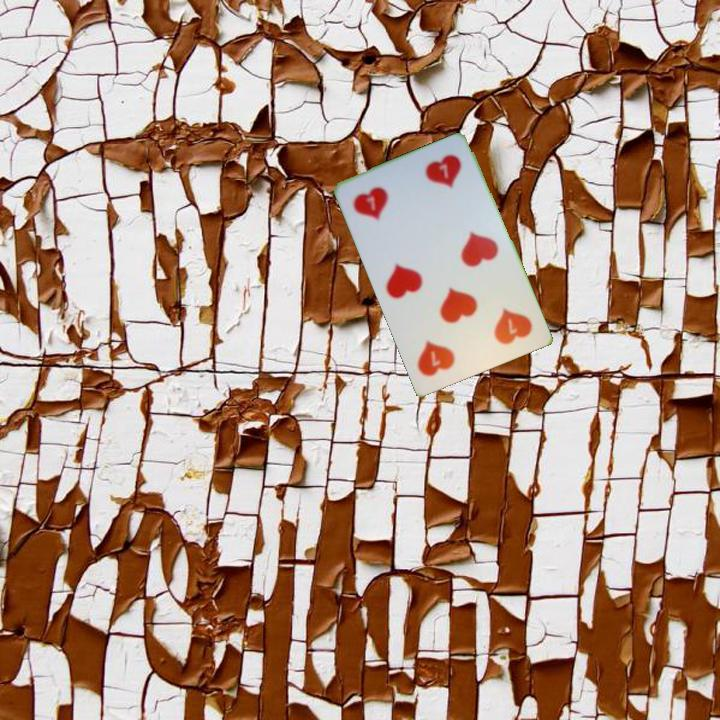h_7.png: (344, 165, 426, 242), (458, 284, 540, 361)
